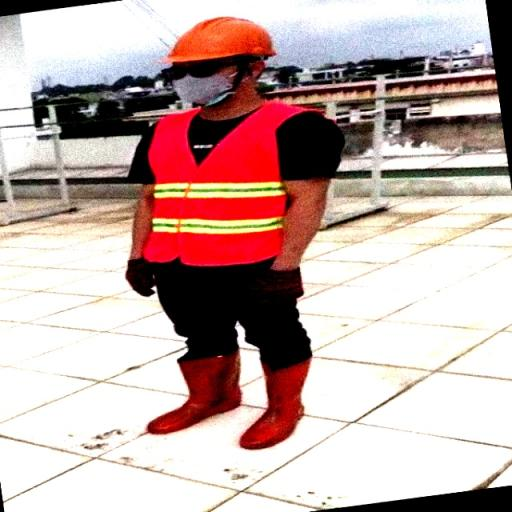Person: (78, 9, 360, 470)
boots: (150, 343, 244, 437), (236, 346, 318, 452)
gloves: (256, 269, 302, 306), (123, 262, 162, 296)
goggles: (158, 52, 254, 86)
helmet: (161, 11, 278, 66)
vest: (147, 98, 294, 263)
